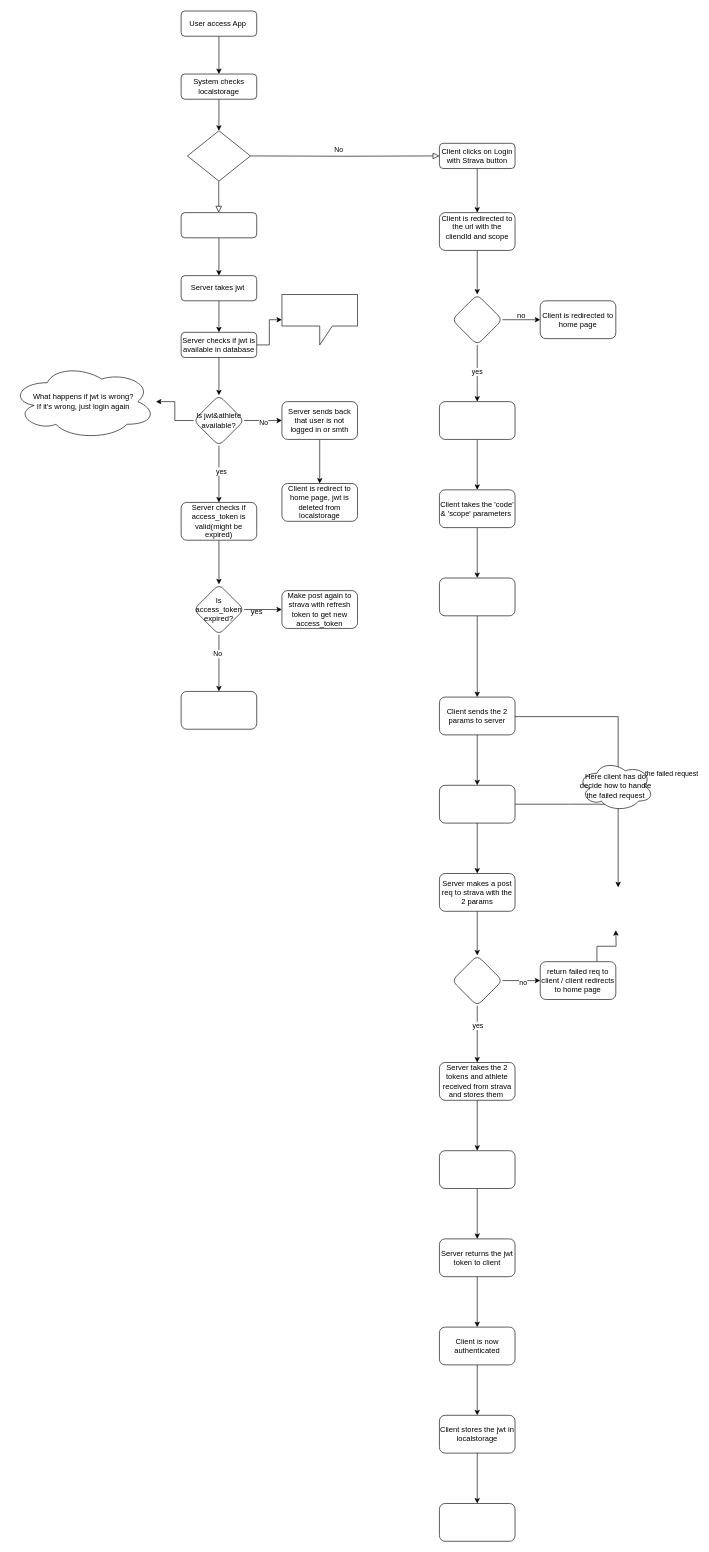
This 709x1552 diagram has some shape labels left out. Each missing label, with the centre of its shape:
Client accepts scopes?: (476,319)
Client is redirected to /exchange_token page: (477,420)
Client sends jwt to server: (218,225)
Client shows a page for "Loading": (477,596)
Did the req succed?: (476,980)
If client makes a req, the jwt is always asked: (477,1522)
Is a jwt available in localstorage?: (218,155)
Server creates a jwt token and stores that for that athlete: (477,1169)
Server receives the params: (477,804)
User is logged in: (218,710)
User will be linked with the 2 tokens received from st: (319,319)
